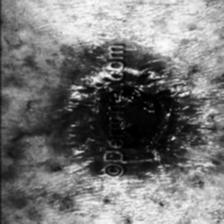Potentially Malignant Skin Tumors: (116, 85, 176, 148)
